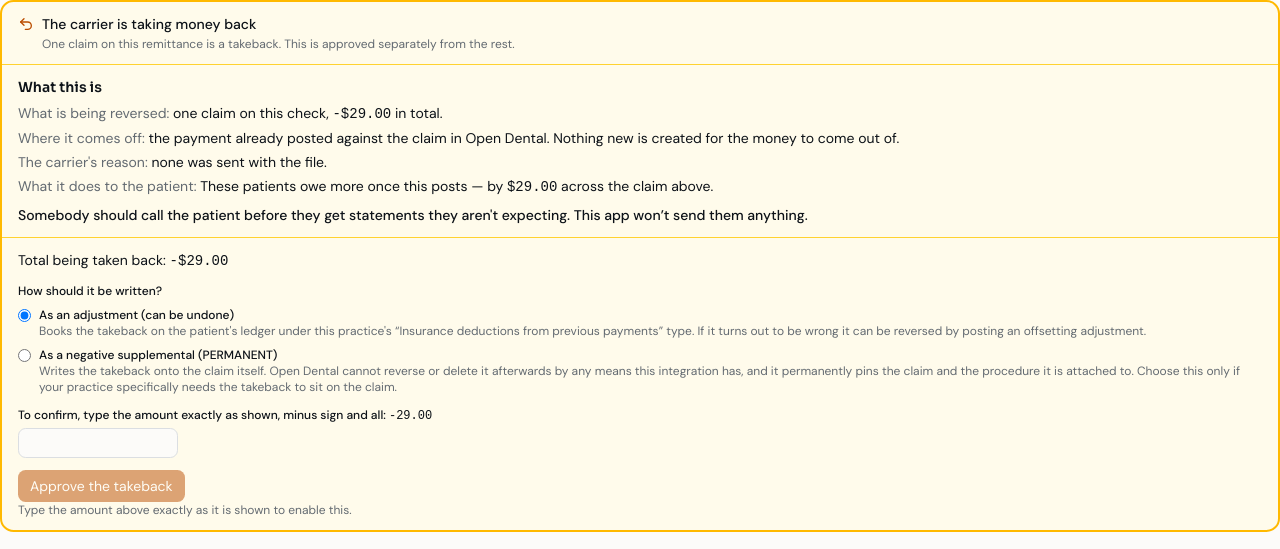
Test case: the takeback's typed field › is live once it is matched, and the confirmation is unchanged
Check: the text with test id "recoupment-expected" reads "-29.00", box top-left (389, 409), bottom-right (432, 423)
Check: the radio button with test id "recoupment-path-adjustment" is checked, box top-left (18, 309), bottom-right (31, 322)
In the field with test id "recoupment-confirm-input": (98, 443) top-left (18, 428), bottom-right (178, 458), type "-29.00"
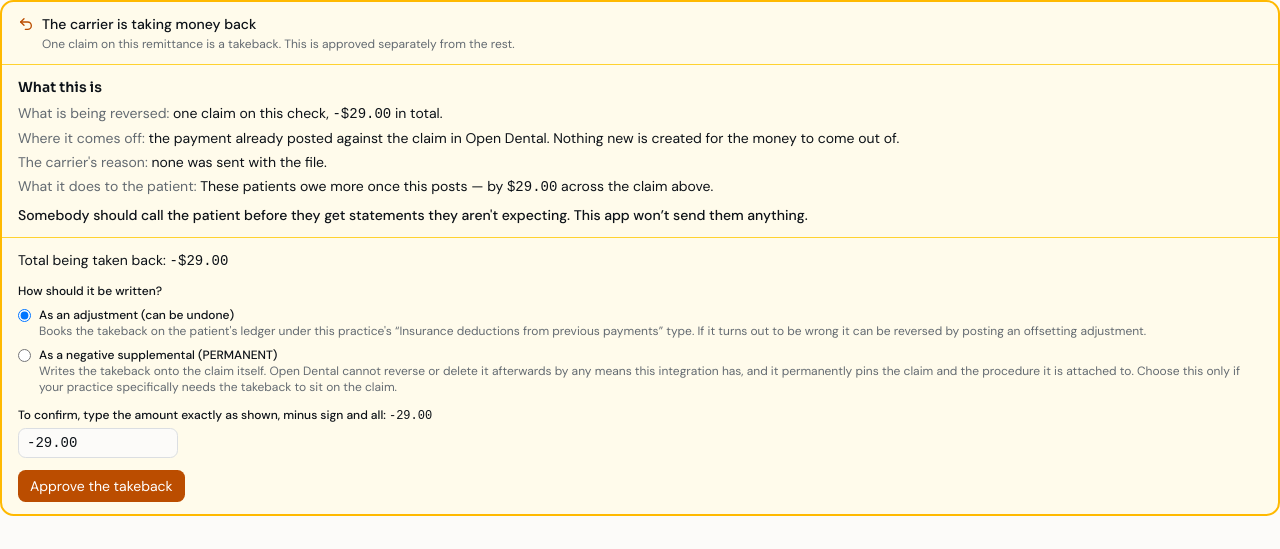
Check: the button with test id "recoupment-approve-button" is enabled, box top-left (18, 470), bottom-right (185, 502)
